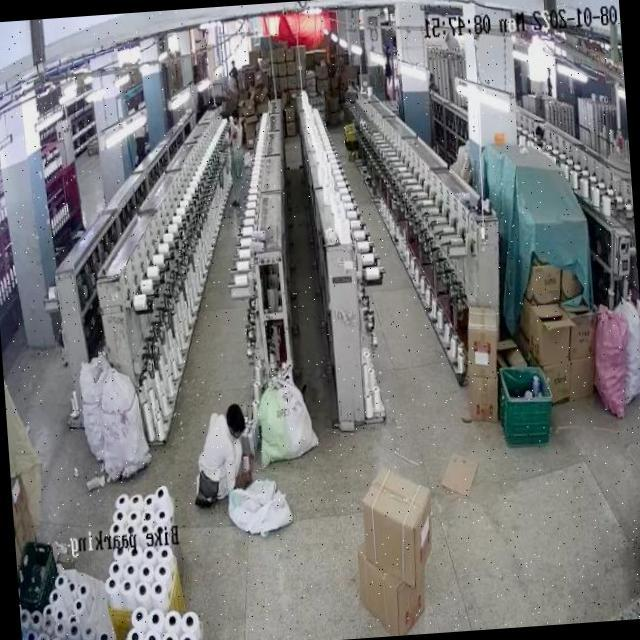person: (200, 410, 247, 486), (222, 112, 249, 206)
